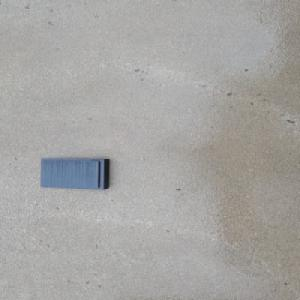PlasticPart: (39, 157, 110, 190)
